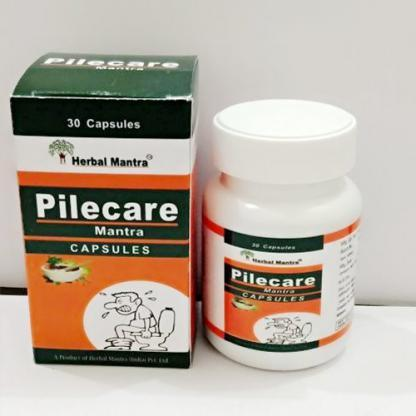jar: (191, 93, 369, 376)
